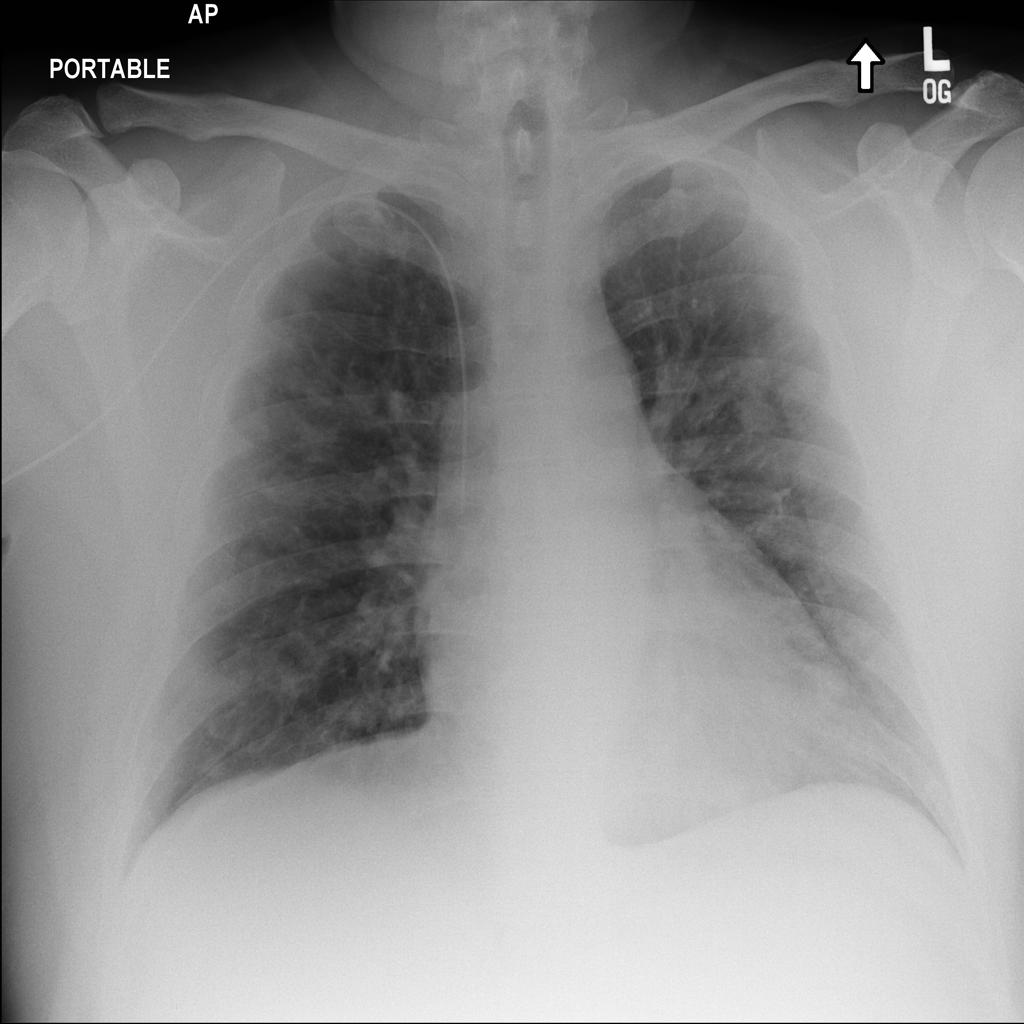nodule: (790, 646, 863, 722), (725, 378, 794, 450)
